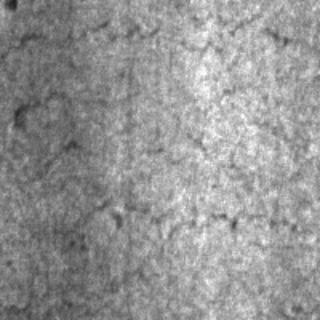crazing: (8, 84, 198, 176), (26, 191, 310, 245), (0, 13, 288, 59)
